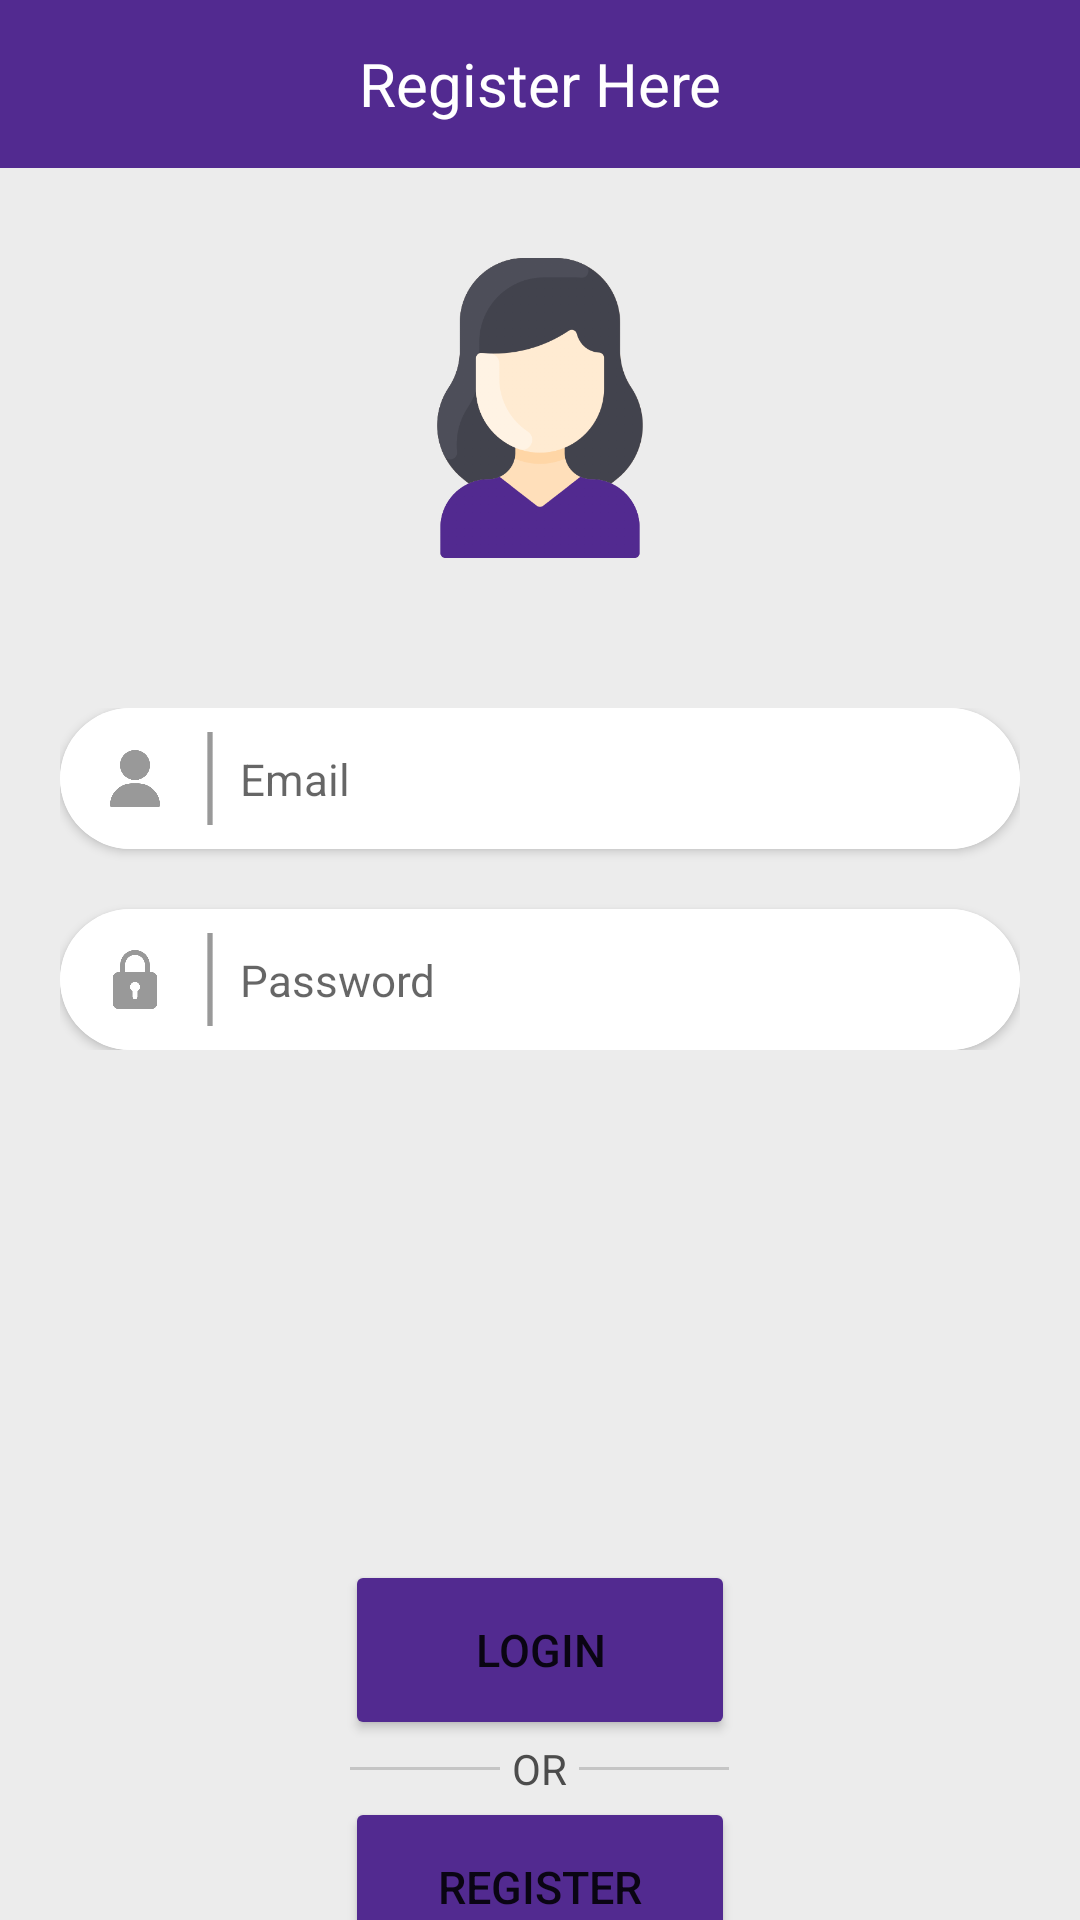

Where icons sit on this 1080 x 1920 app screen, as (x1, y1, x2, y2):
profile: (437, 258, 643, 558)
